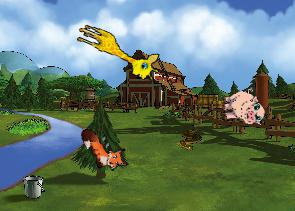fox: (77, 117, 132, 179)
giraffe: (70, 21, 164, 84)
pig: (219, 87, 265, 129)
